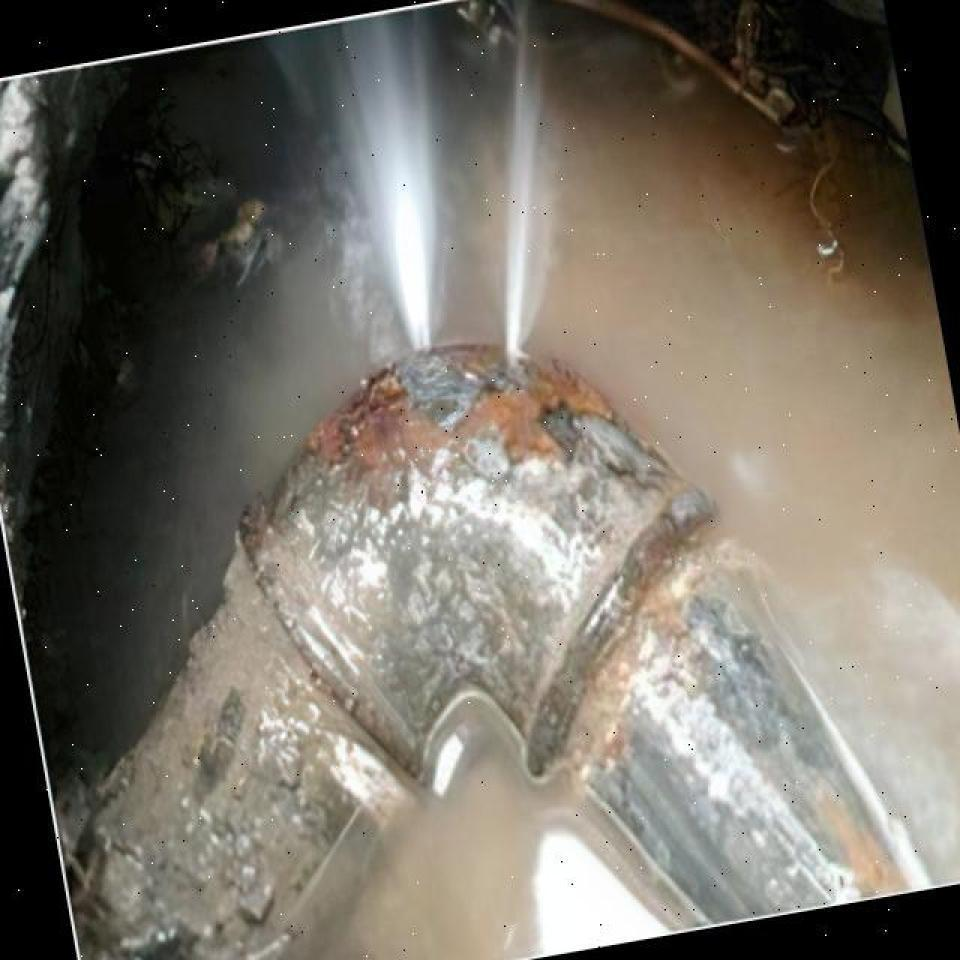pipe burst: (276, 17, 440, 358), (502, 1, 554, 367)
